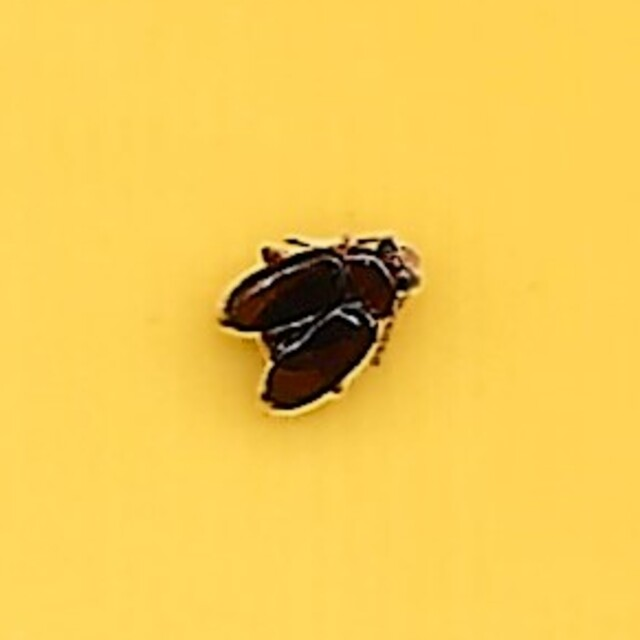Coleoptera: (220, 230, 420, 410)
